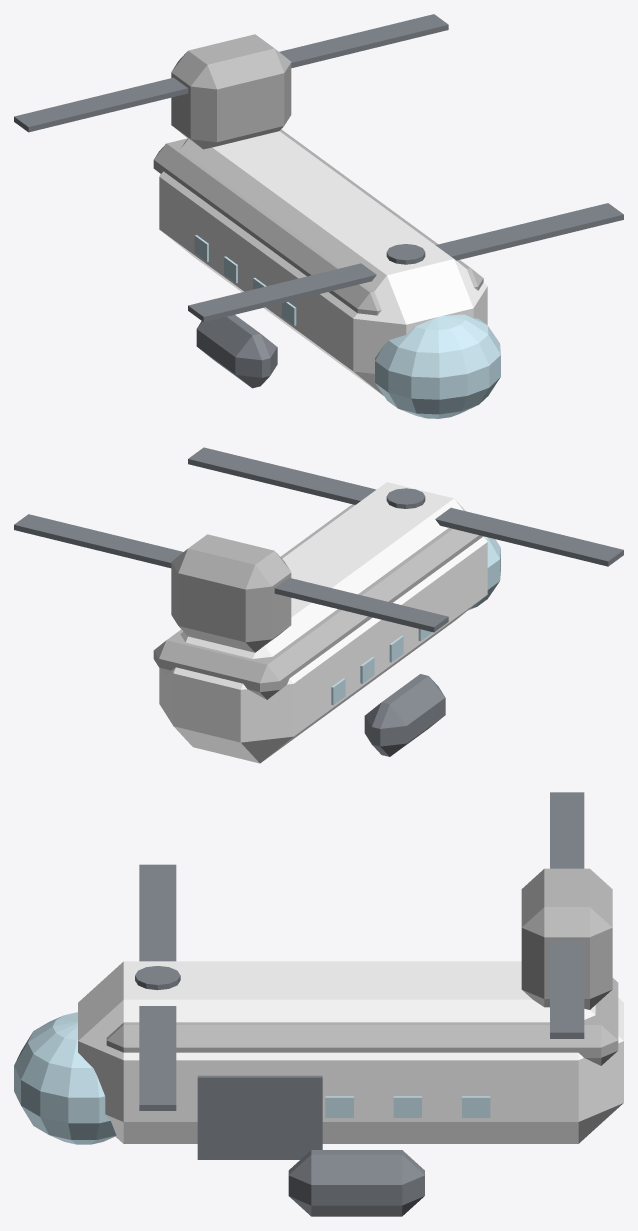
The model's file is transheli.glb.
3 views of the same model, one above another, from view 1: azimuth 30°, elevation 25°; view 2: azimuth 150°, elevation 25°; view 3: azimuth 270°, elevation 25° (orthographic). The views are drawn at different scales.
Parts seen in each view (by area): view 1: main, rotor, blades; view 2: main, rotor, blades; view 3: main, rotor, blades.
Part boxes in pixels (x1=…): main: x1=153, y1=34, x2=500, y2=418; rotor: x1=188, y1=203, x2=623, y2=322; blades: x1=14, y1=14, x2=448, y2=132; main: x1=153, y1=482, x2=500, y2=763; rotor: x1=188, y1=447, x2=623, y2=566; blades: x1=14, y1=514, x2=448, y2=632; main: x1=14, y1=868, x2=623, y2=1216; rotor: x1=135, y1=864, x2=180, y2=1110; blades: x1=550, y1=792, x2=584, y2=1038.
Size of the model in its own units: 1 by 0.54 by 1.07.
